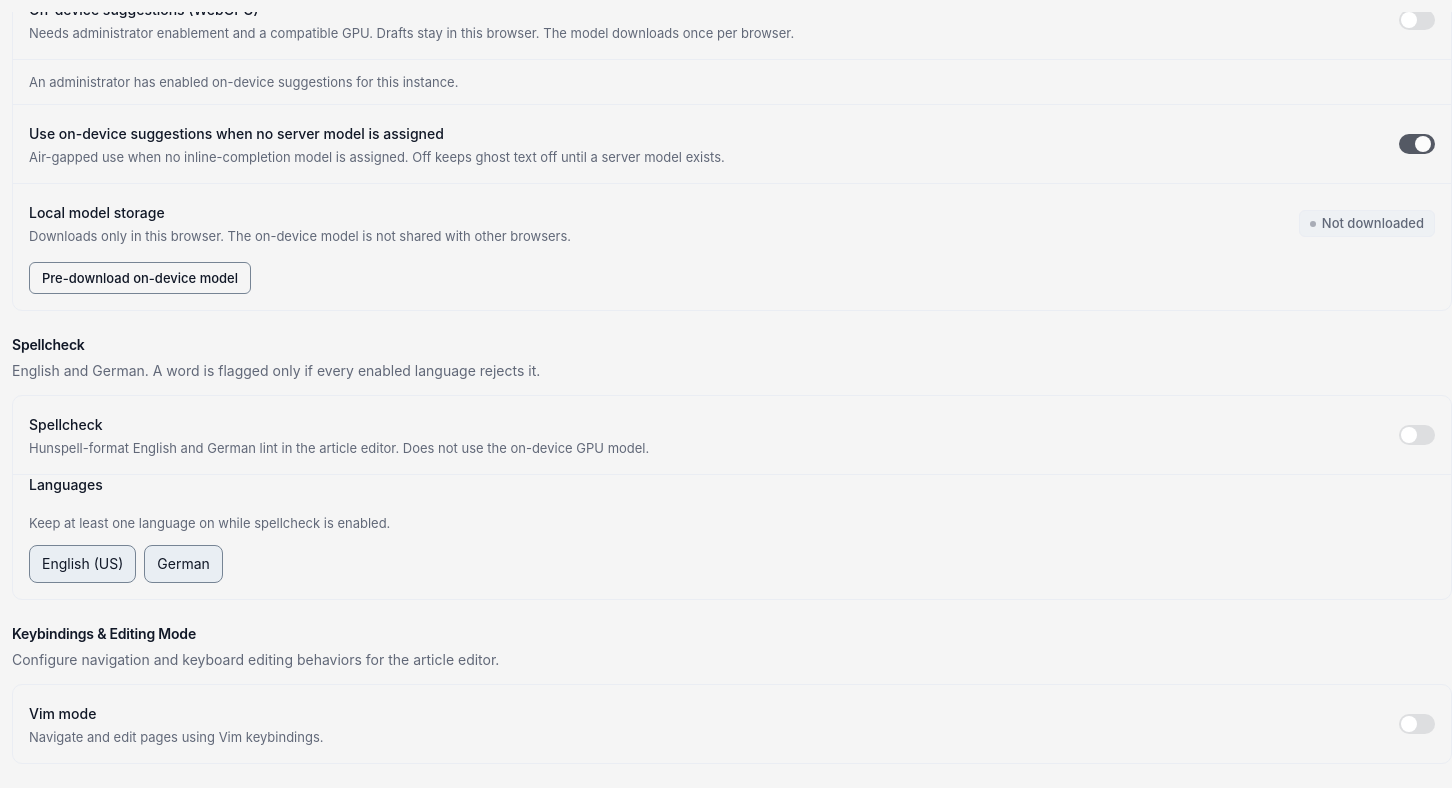
EditorPreferencesTab on-device shells (#1418) › shows error alert if predownload fails
This screenshot has width=1452, height=788.
(page scrolled)
Click the button "Pre-download on-device model": [140, 278] box [29,262,251,294]
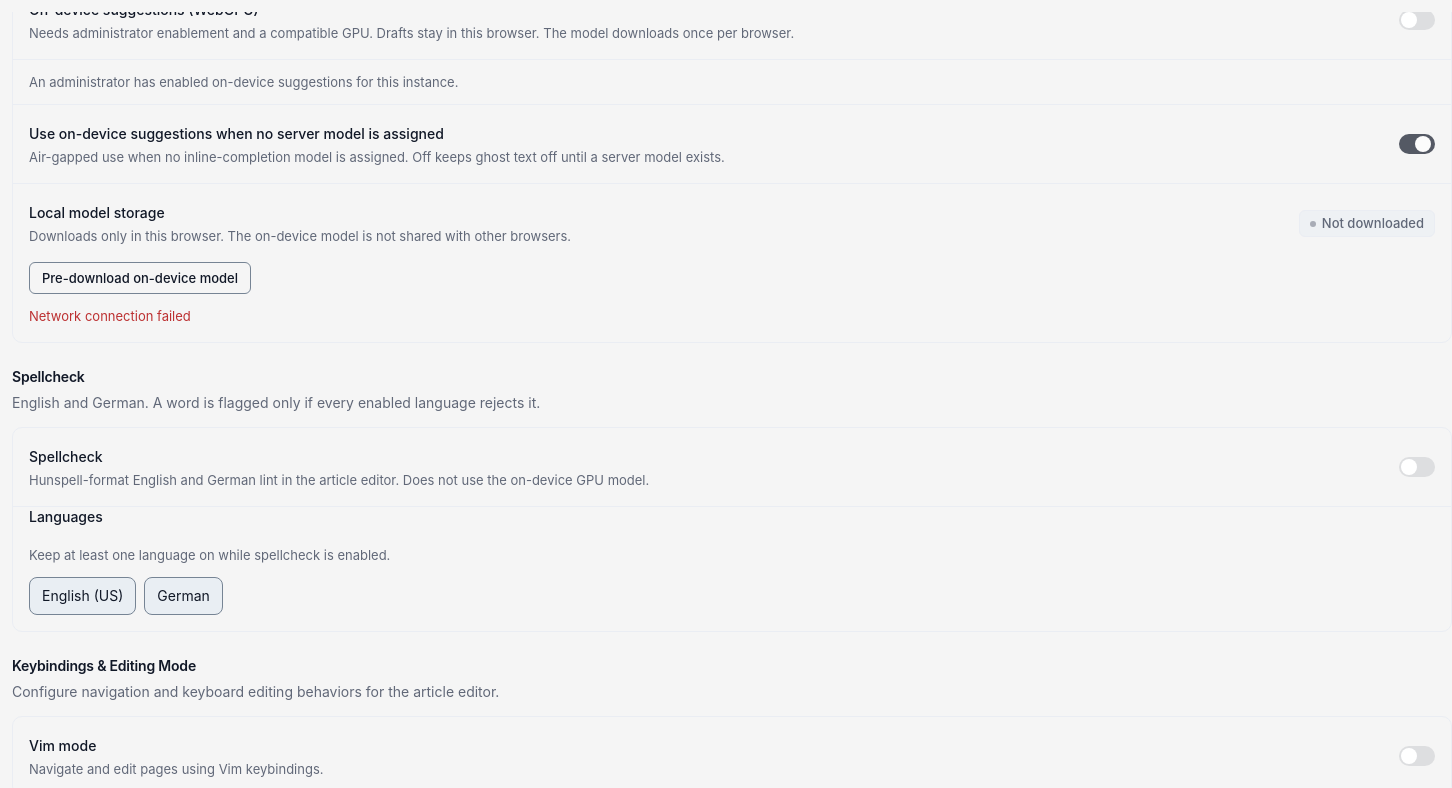
Check: the message "Network connection failed" is shown, box [29,308,191,324]
